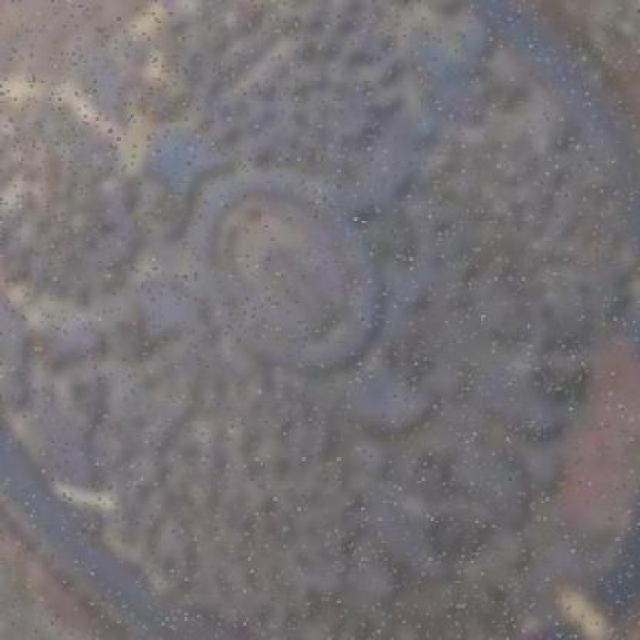Manhole: (2, 0, 636, 638)
